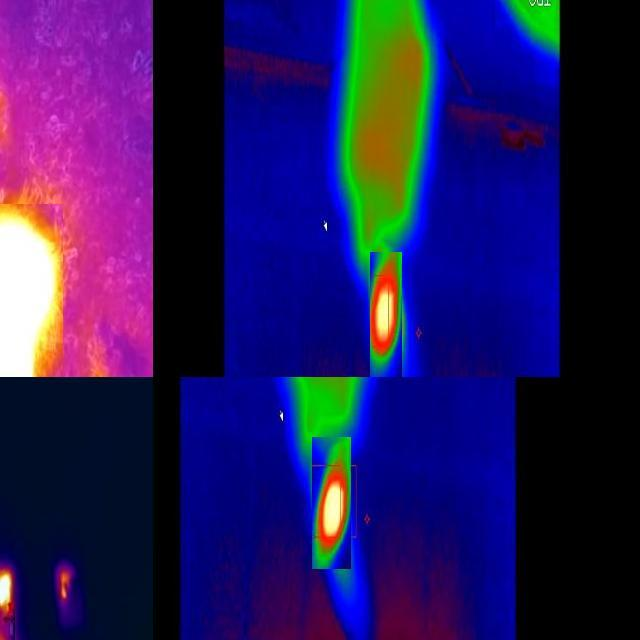fire: (1, 204, 63, 378), (312, 437, 351, 569), (370, 252, 402, 378), (1, 567, 15, 640), (57, 566, 73, 604)
